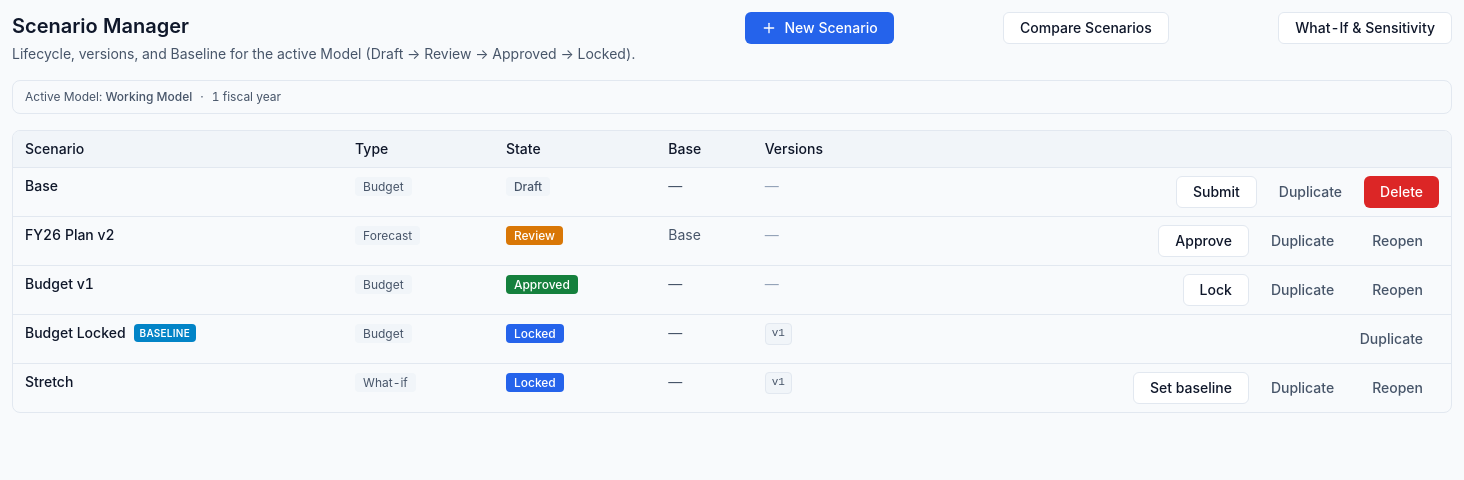
Test: S-050 Scenario Manager (F-022) › surfaces a submit failure inline as a typed alert
Click the button "Submit": (1216, 192) [1176, 176, 1257, 208]
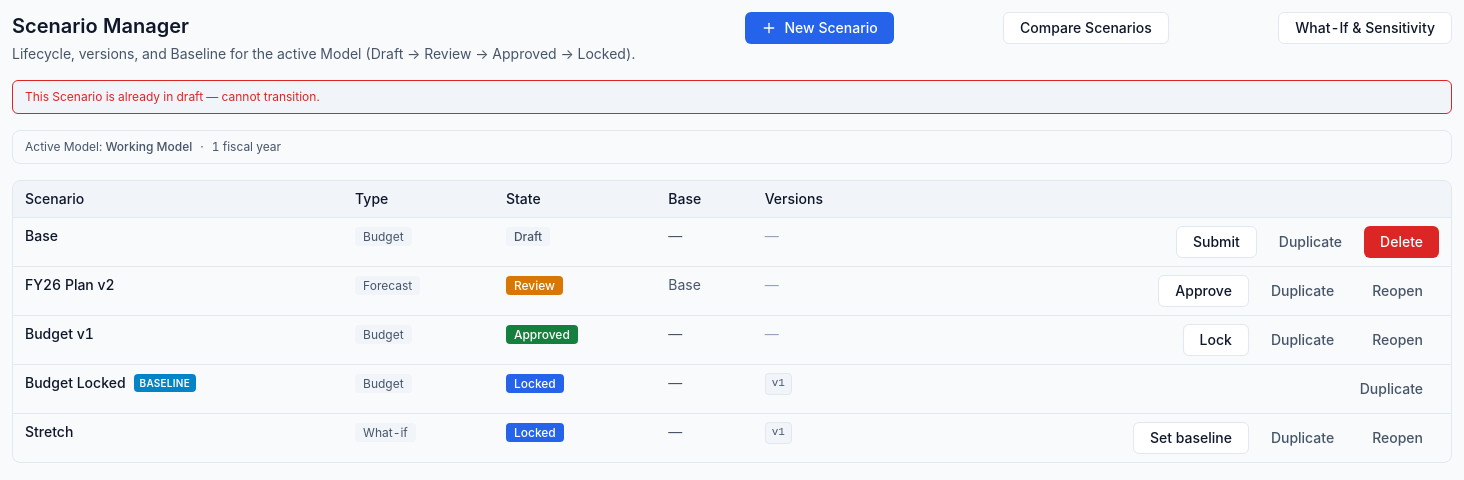
Expected: the text "Draft" is shown, [506, 227, 550, 246]
Result: the message "This Scenario is already in draft — cannot transition." is shown at [12, 80, 1452, 114]
